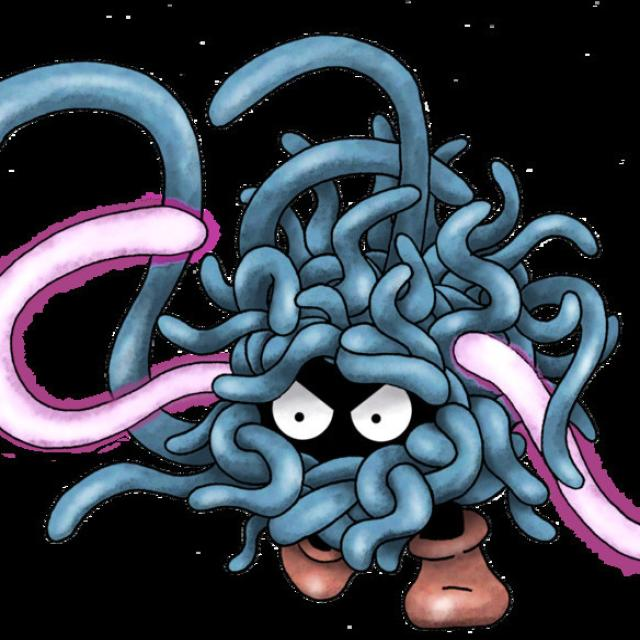Tangela: (13, 98, 636, 623)
